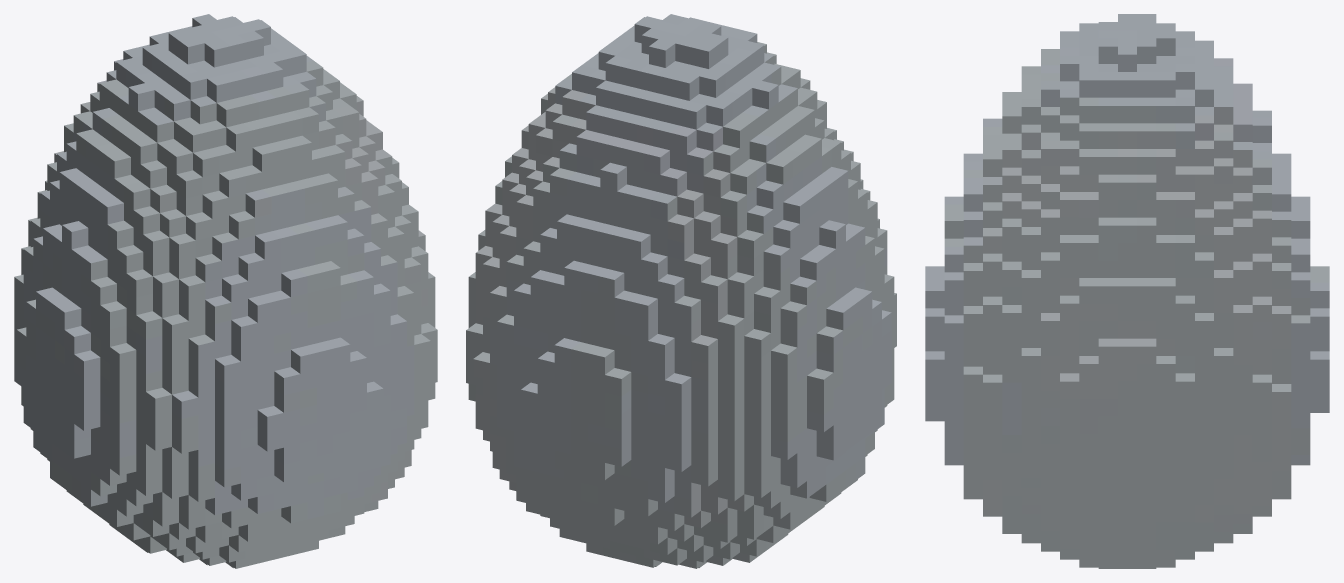
The model's file is silver-egg-named-nodes.glb.
The picture shows the model from 3 angles, left to right: view 1: azimuth 30°, elevation 25°; view 2: azimuth 150°, elevation 25°; view 3: azimuth 270°, elevation 25°; orthographic projection.
Parts seen in each view (by area): view 1: tripo_node_ac5691af-dd4d-4274-bb88-54595b4e5a16; view 2: tripo_node_ac5691af-dd4d-4274-bb88-54595b4e5a16; view 3: tripo_node_ac5691af-dd4d-4274-bb88-54595b4e5a16.
Boxes of the visible parts, x1,y1,x2,y2 form: tripo_node_ac5691af-dd4d-4274-bb88-54595b4e5a16: [14, 14, 437, 568]; tripo_node_ac5691af-dd4d-4274-bb88-54595b4e5a16: [466, 14, 896, 568]; tripo_node_ac5691af-dd4d-4274-bb88-54595b4e5a16: [925, 14, 1329, 568].
Size of the model in its own units: 0.7292 by 1.01 by 0.7292.
1 material, 1 textured.
